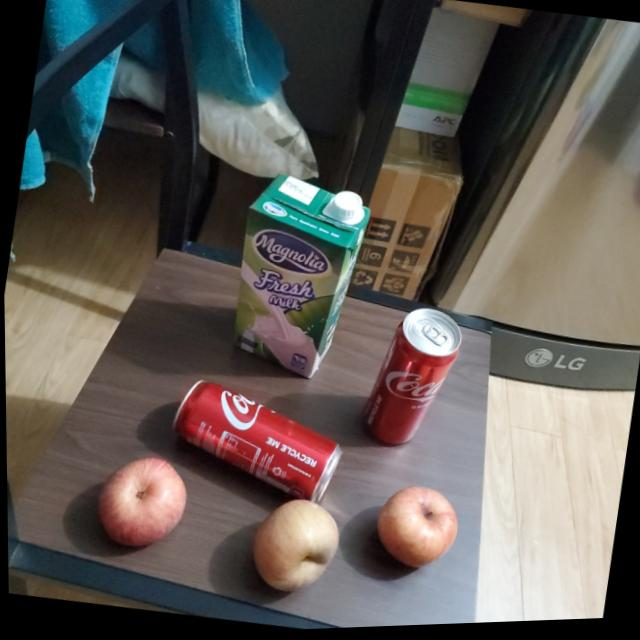apple: (93, 451, 195, 558), (245, 494, 345, 601), (368, 481, 462, 576)
coke: (162, 372, 350, 506), (359, 305, 470, 461)
milk: (219, 166, 377, 387)
